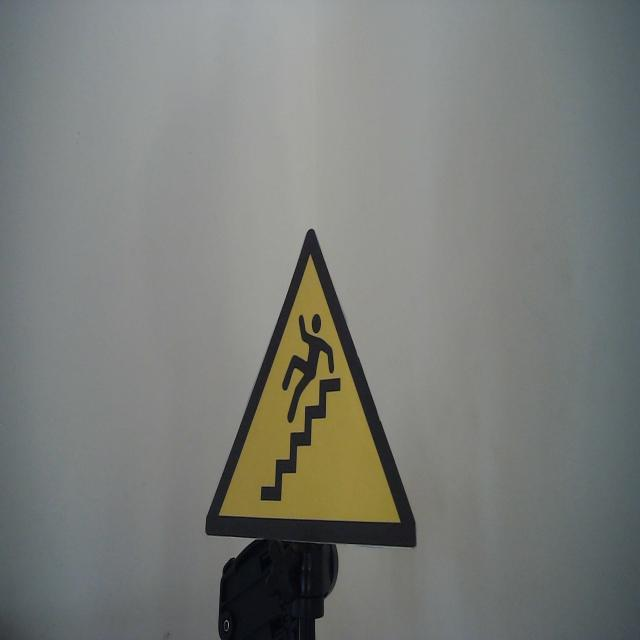stairs: (204, 226, 418, 552)
